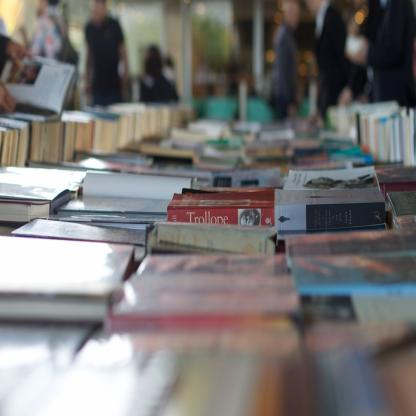book: (0, 100, 416, 416), (166, 190, 274, 223)
